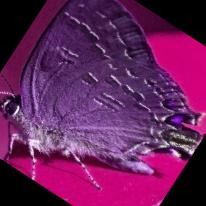butterfly: (0, 0, 204, 175)
